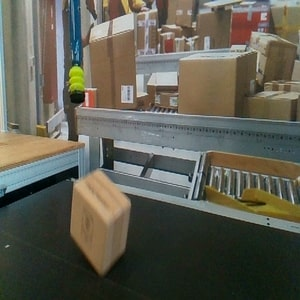box: (68, 167, 132, 277)
